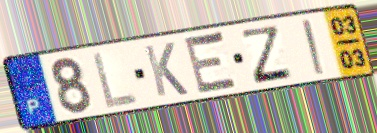8: (49, 55, 94, 116)
E: (182, 30, 242, 98)
I: (299, 17, 329, 77)
K: (142, 40, 191, 99)
L: (90, 49, 141, 111)
Z: (239, 25, 296, 87)
